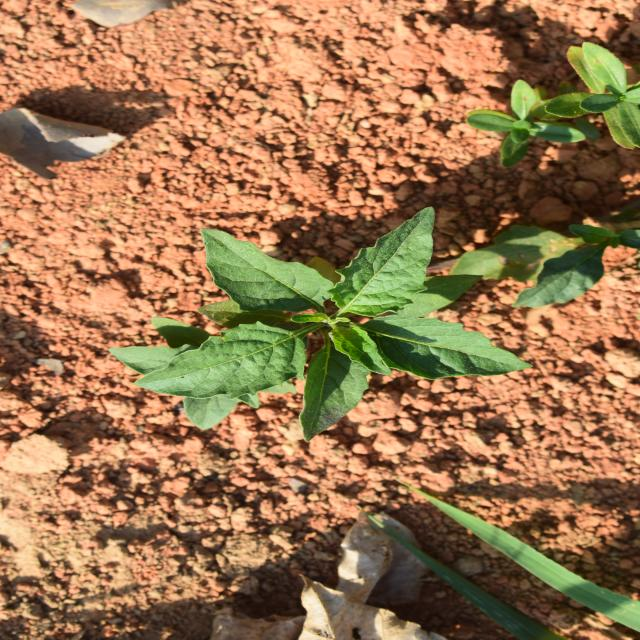Black_nightshade: (180, 151, 431, 491)
